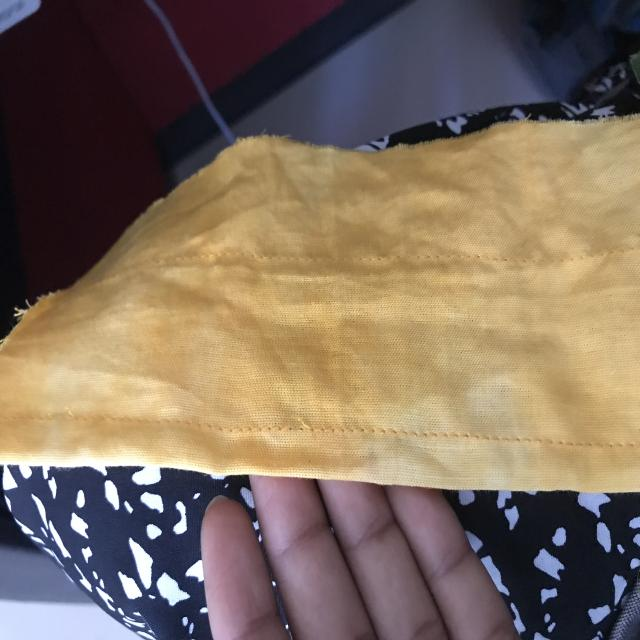broken: (281, 398, 322, 444)
